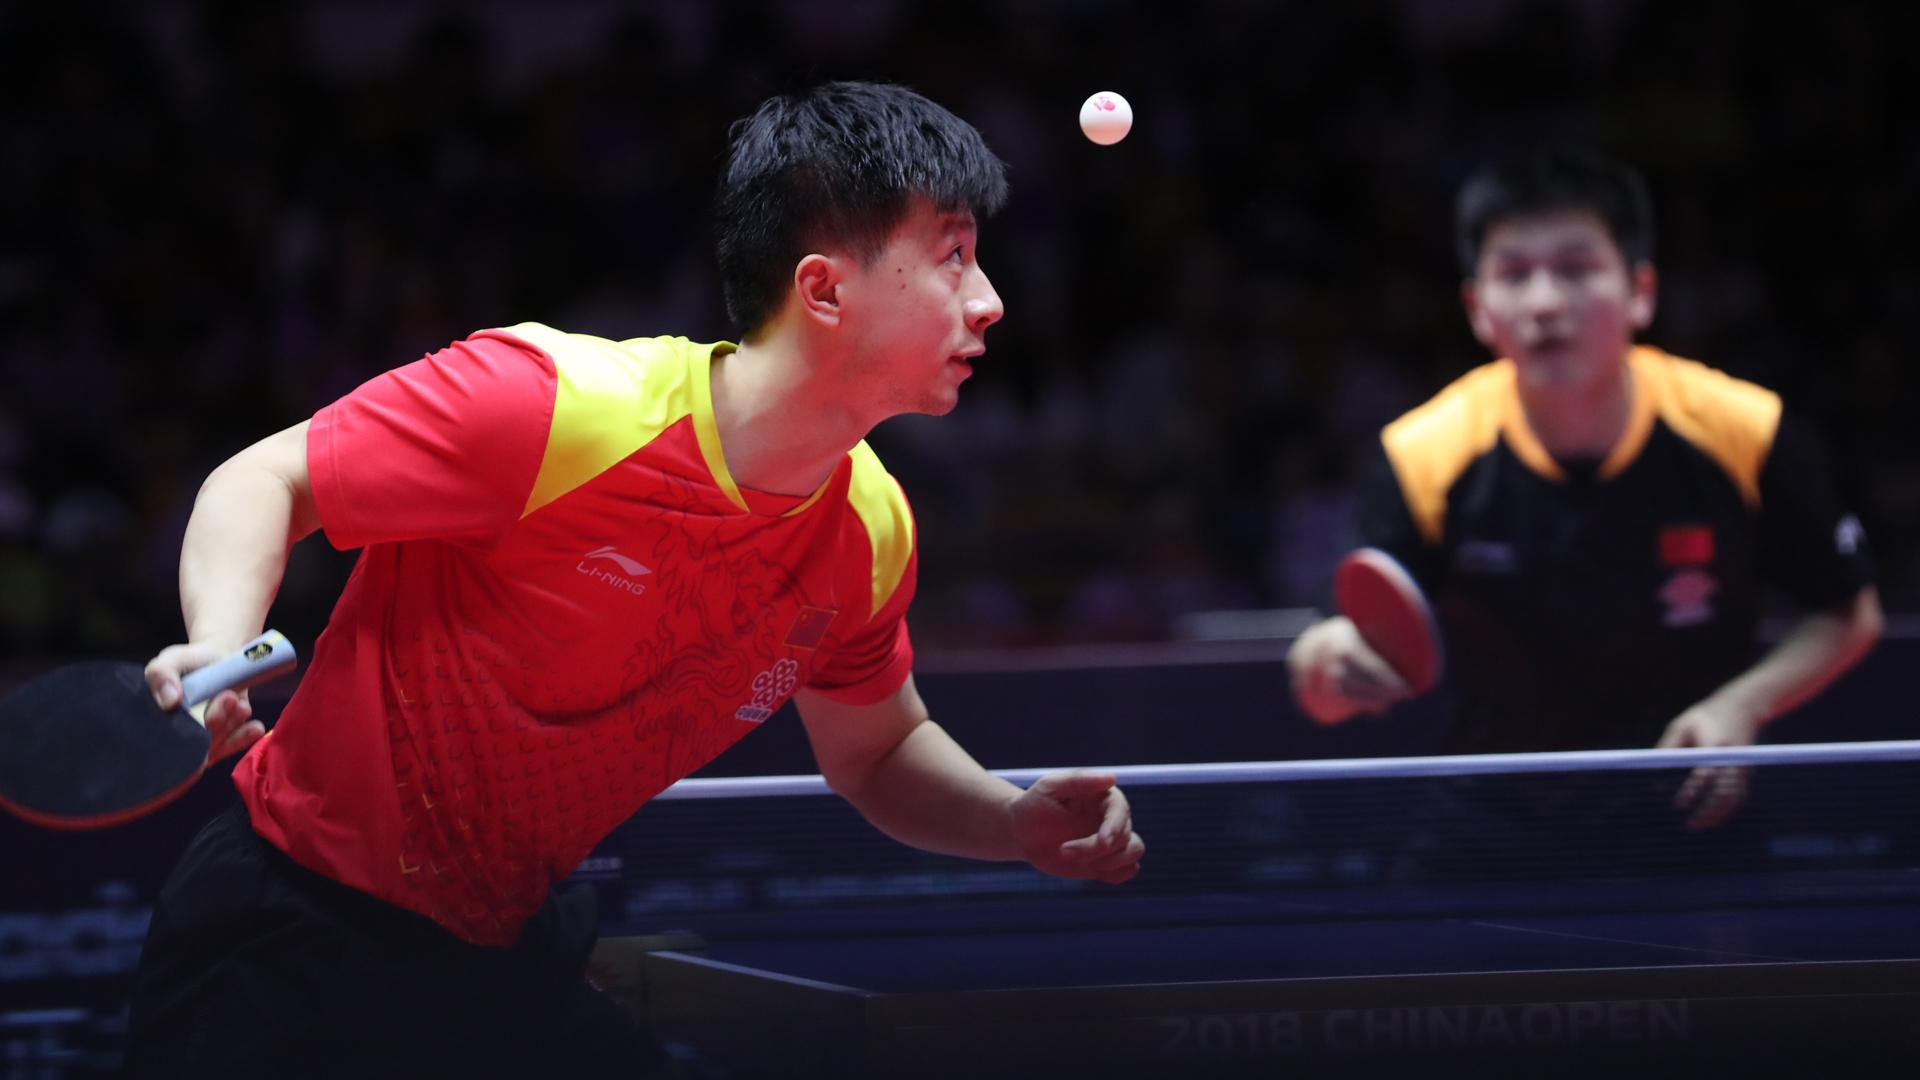ball: (1069, 76, 1139, 160)
